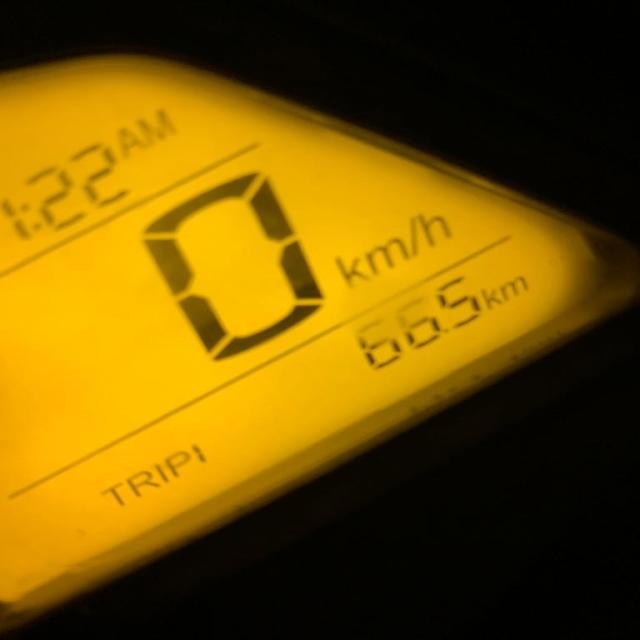odometer: (0, 41, 639, 610)
